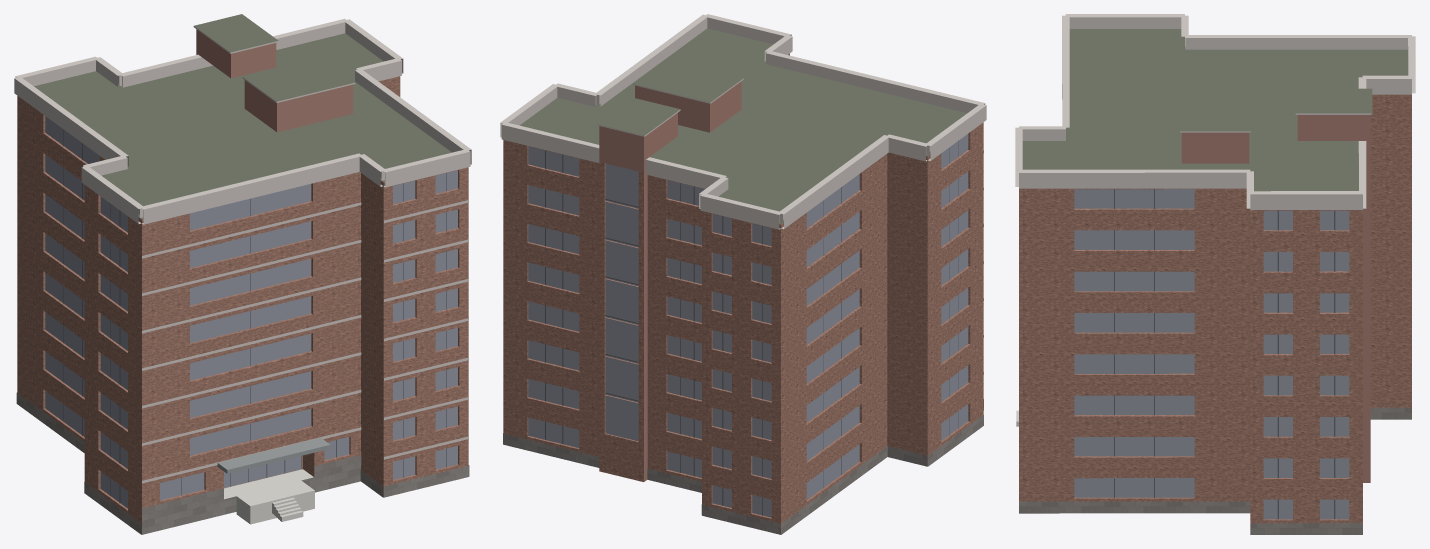
3 renders of one model, left to right at view 1: azimuth 30°, elevation 25°; view 2: azimuth 150°, elevation 25°; view 3: azimuth 270°, elevation 25°, orthographic. The views are drawn at different scales.
Parts seen in each view (by area): view 1: b903__wall, b903__roof, b903__glass, b903__trim, b903__base, b903__wall2, b903__entranceStair, b903__canopy, b903__frame; view 2: b903__wall, b903__glass, b903__roof, b903__trim, b903__wall2, b903__base, b903__frame; view 3: b903__wall, b903__roof, b903__glass, b903__trim, b903__wall2, b903__base, b903__frame.
Boxes of the visible parts, x1,y1,x2,y2 form: b903__wall: (17,76,468,534); b903__roof: (34,14,451,534); b903__glass: (45,116,457,508); b903__trim: (14,18,471,483); b903__base: (16,392,469,534); b903__wall2: (196,29,353,132); b903__entranceStair: (224,469,314,524); b903__canopy: (217,437,330,473); b903__frame: (63,130,446,502); b903__wall: (503,53,983,534); b903__glass: (528,134,968,517); b903__roof: (520,28,966,224); b903__trim: (500,14,986,374); b903__wall2: (599,81,741,481); b903__base: (503,399,983,534); b903__frame: (545,140,958,515); b903__wall: (1019,94,1411,523); b903__roof: (1022,29,1408,513); b903__glass: (1074,189,1349,519); b903__trim: (1015,14,1415,210); b903__wall2: (1181,115,1370,482); b903__base: (1019,407,1411,534); b903__frame: (1114,189,1335,519).
Bounding box in the file's own units: 32.79 × 31.66 × 30.78.
Materials: 10 (2 with a texture image).
